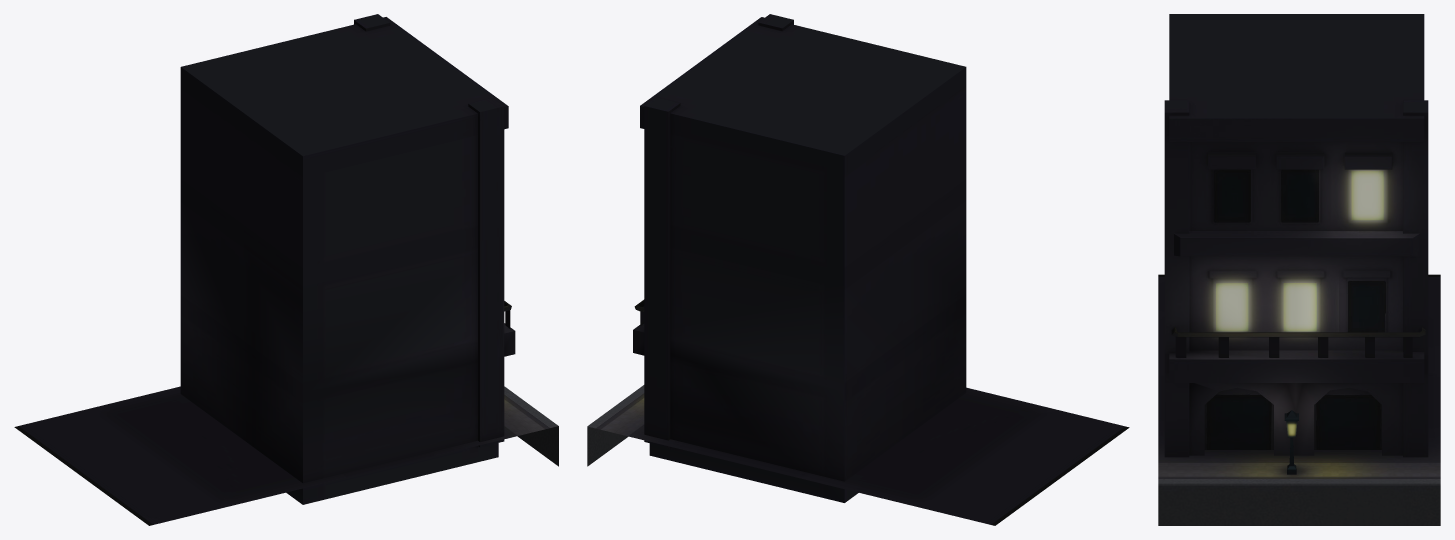
The picture shows the model from 3 angles, left to right: view 1: azimuth 30°, elevation 25°; view 2: azimuth 150°, elevation 25°; view 3: azimuth 270°, elevation 25°; orthographic projection. The views are drawn at different scales.
Visible parts, largest first — view 1: modelB001; view 2: modelB001; view 3: modelB001.
Part boxes in pixels (left/top/right/bottom): modelB001: left=14, top=14, right=558, bottom=525; modelB001: left=587, top=14, right=1129, bottom=525; modelB001: left=1158, top=14, right=1440, bottom=525.
Size of the model in its own units: 276 by 238 by 157.
Materials: 1 (1 with a texture image).
